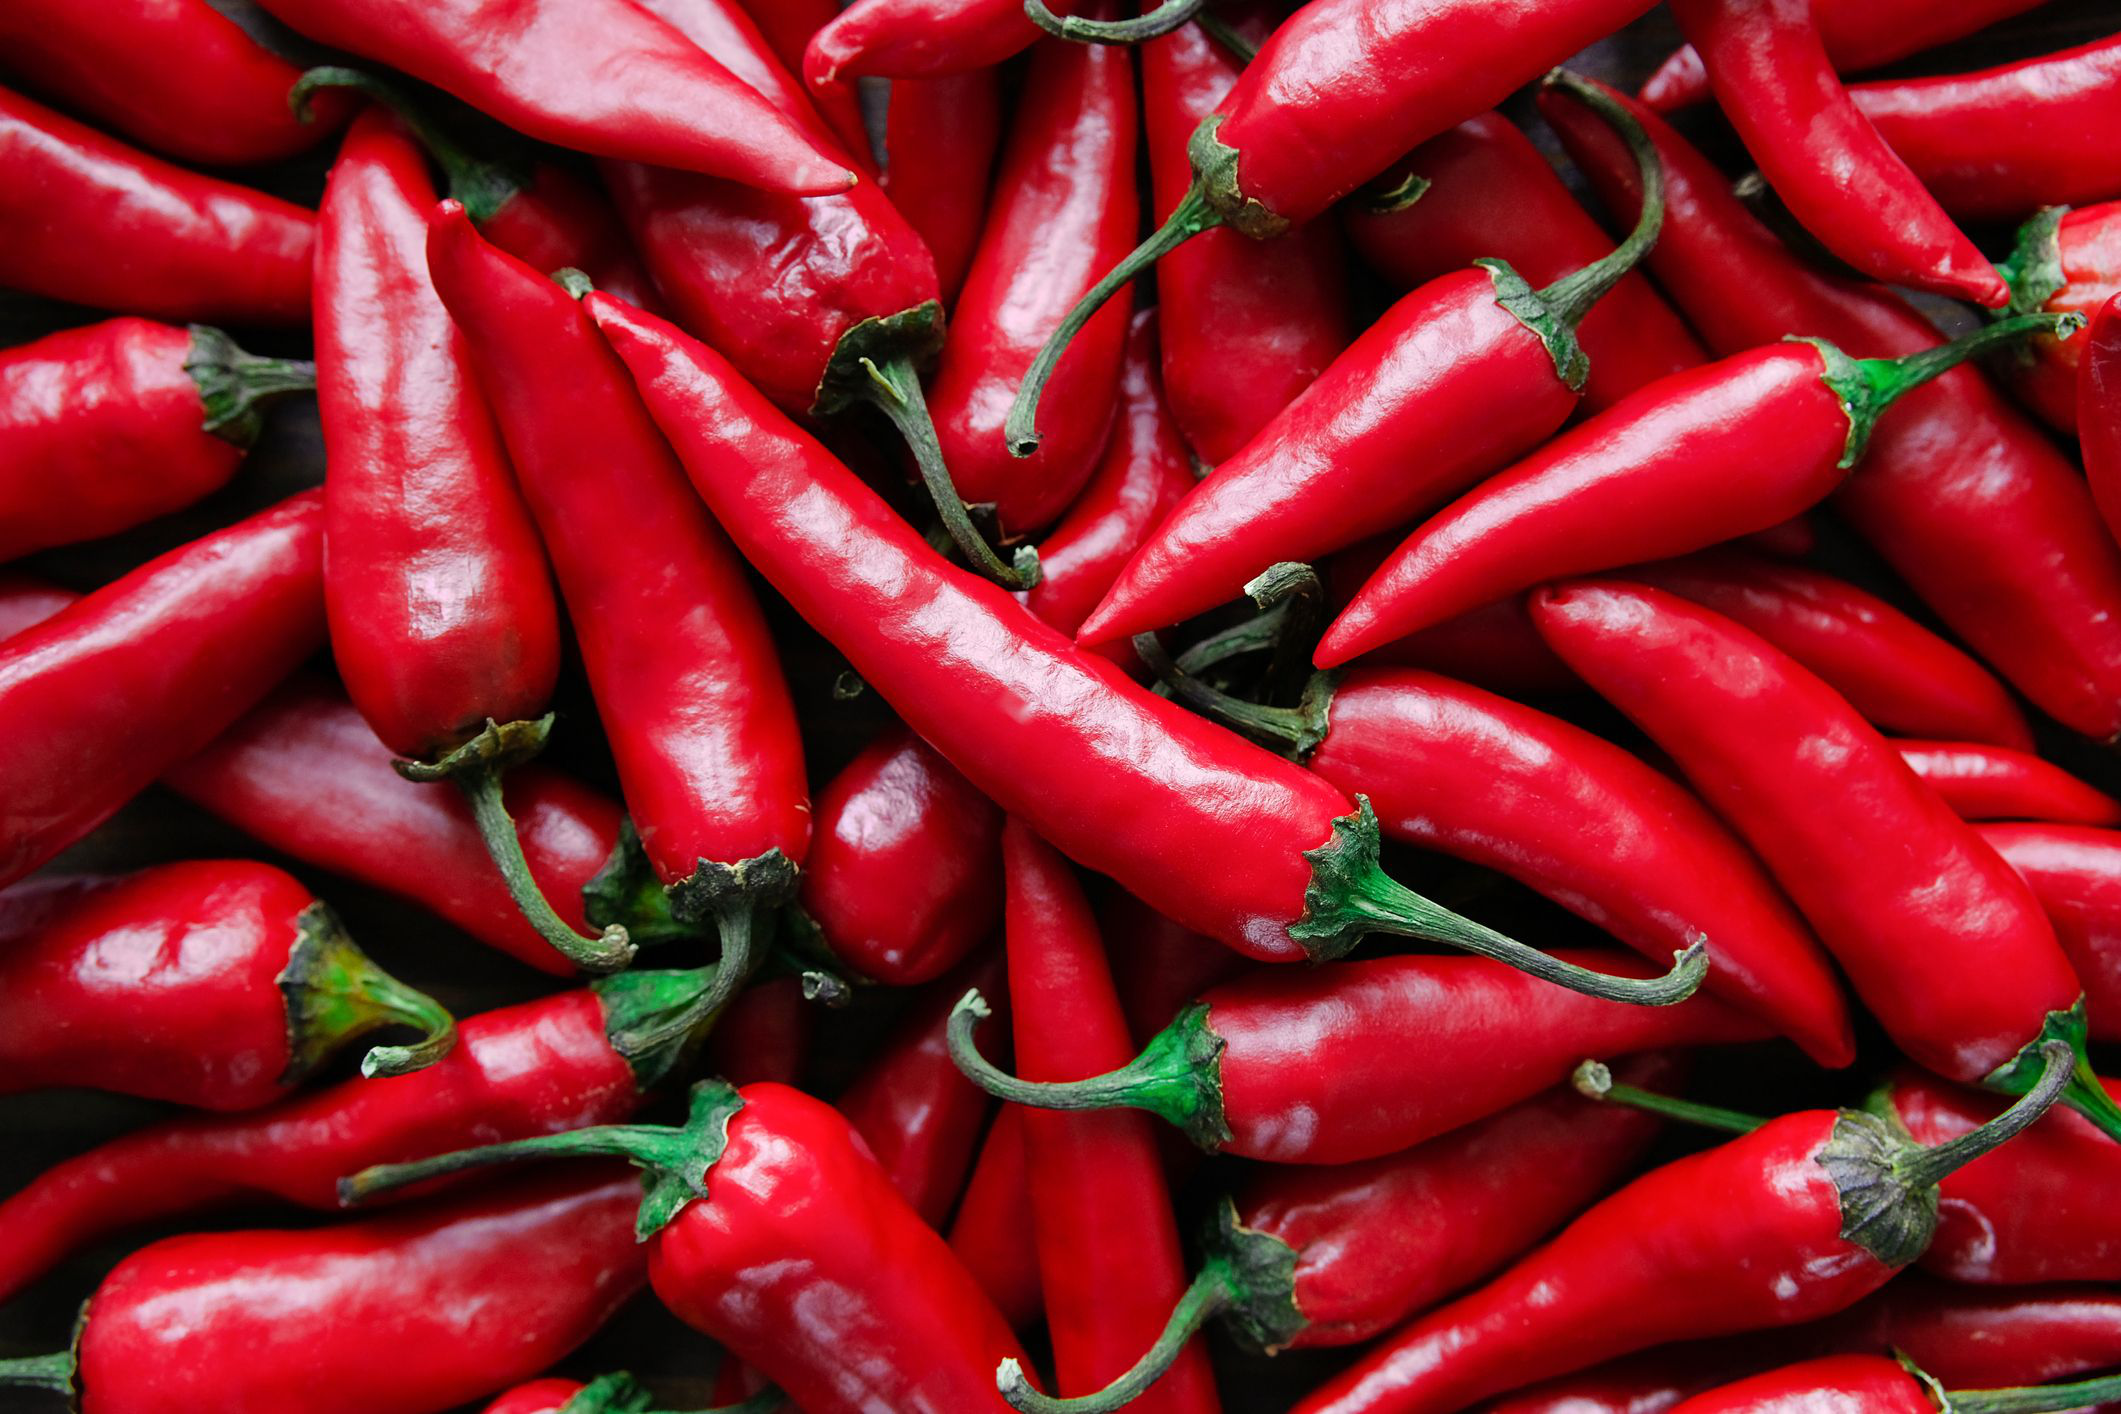Cabai: (361, 164, 1842, 1262)
